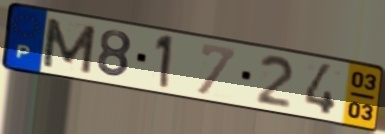1: (152, 33, 177, 91)
2: (254, 54, 297, 111)
4: (302, 61, 339, 117)
7: (199, 42, 239, 97)
8: (96, 28, 134, 79)
M: (39, 15, 99, 76)
